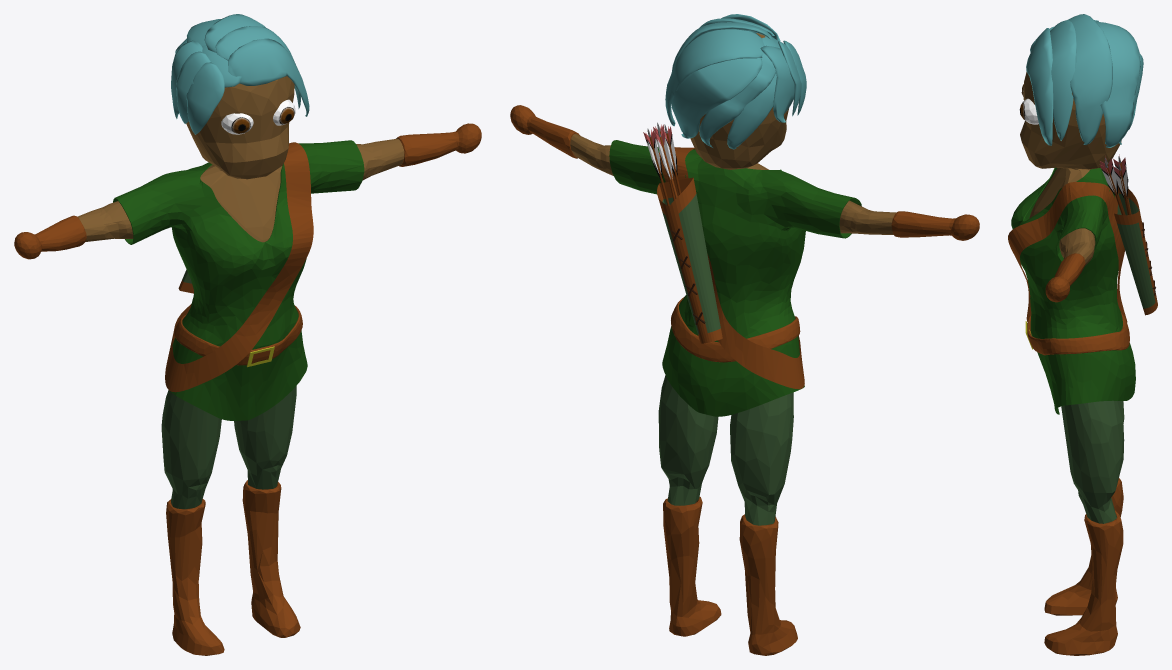
File: Arqueiro.fbx
The picture shows the model from 3 angles, left to right: view 1: azimuth 30°, elevation 25°; view 2: azimuth 150°, elevation 25°; view 3: azimuth 270°, elevation 25°; orthographic projection.
Visible parts, largest first — view 1: Cube.009, Cube.006, Cube.011, Cube.012, Plane, Cube.010, Cube.013, BezierCurve.000, BezierCurve.001, Cube.014, BezierCurve.010, BezierCurve.022 (+3 smaller); view 2: Cube.009, Cube.012, Cube.011, BezierCurve.019, Cube.010, Plane, BezierCurve.018, Cube.006, Cylinder.002, Cube.013, Cube.014, BezierCurve.020 (+5 smaller); view 3: Cube.009, Cube.011, Cube.012, Cube.006, BezierCurve.017, BezierCurve.018, Plane, BezierCurve.010, BezierCurve.000, Cube.014, Cylinder.002, Cube.010 (+7 smaller).
Boxes of the visible parts, x1=… form: Cube.009: x1=113, y1=140, x2=364, y2=420; Cube.006: x1=186, y1=76, x2=294, y2=242; Cube.011: x1=166, y1=480, x2=300, y2=655; Cube.012: x1=161, y1=386, x2=296, y2=509; Plane: x1=165, y1=142, x2=313, y2=392; Cube.010: x1=14, y1=123, x2=481, y2=259; Cube.013: x1=77, y1=138, x2=404, y2=241; BezierCurve.000: x1=228, y1=38, x2=309, y2=116; BezierCurve.001: x1=186, y1=62, x2=224, y2=134; Cube.014: x1=174, y1=305, x2=302, y2=365; BezierCurve.010: x1=215, y1=26, x2=300, y2=108; BezierCurve.022: x1=176, y1=51, x2=210, y2=123; Cube.009: x1=609, y1=140, x2=861, y2=416; Cube.012: x1=658, y1=375, x2=793, y2=525; Cube.011: x1=663, y1=497, x2=797, y2=655; BezierCurve.019: x1=671, y1=58, x2=762, y2=138; Cube.010: x1=510, y1=105, x2=979, y2=240; Plane: x1=659, y1=147, x2=804, y2=389; BezierCurve.018: x1=665, y1=29, x2=764, y2=126; Cube.006: x1=690, y1=33, x2=788, y2=169; Cylinder.002: x1=662, y1=194, x2=720, y2=334; Cube.013: x1=570, y1=134, x2=896, y2=234; Cube.014: x1=671, y1=297, x2=800, y2=362; BezierCurve.020: x1=699, y1=53, x2=775, y2=147; Cube.009: x1=1011, y1=167, x2=1135, y2=414; Cube.011: x1=1044, y1=478, x2=1123, y2=655; Cube.012: x1=1061, y1=400, x2=1124, y2=523; Cube.006: x1=1020, y1=72, x2=1121, y2=218; BezierCurve.017: x1=1068, y1=14, x2=1112, y2=144; BezierCurve.018: x1=1096, y1=21, x2=1140, y2=147; Plane: x1=1008, y1=181, x2=1127, y2=322; BezierCurve.010: x1=1050, y1=20, x2=1076, y2=140; BezierCurve.000: x1=1026, y1=28, x2=1053, y2=145; Cube.014: x1=1027, y1=313, x2=1129, y2=355; Cylinder.002: x1=1117, y1=193, x2=1155, y2=308; Cube.010: x1=1045, y1=253, x2=1085, y2=302.
Size of the model in its own units: 595 by 750 by 168.
